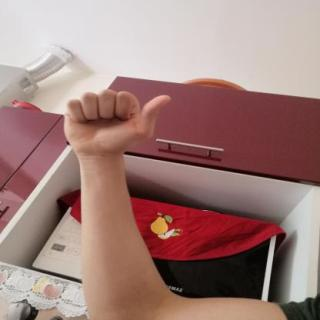DAD: (54, 83, 178, 160)
